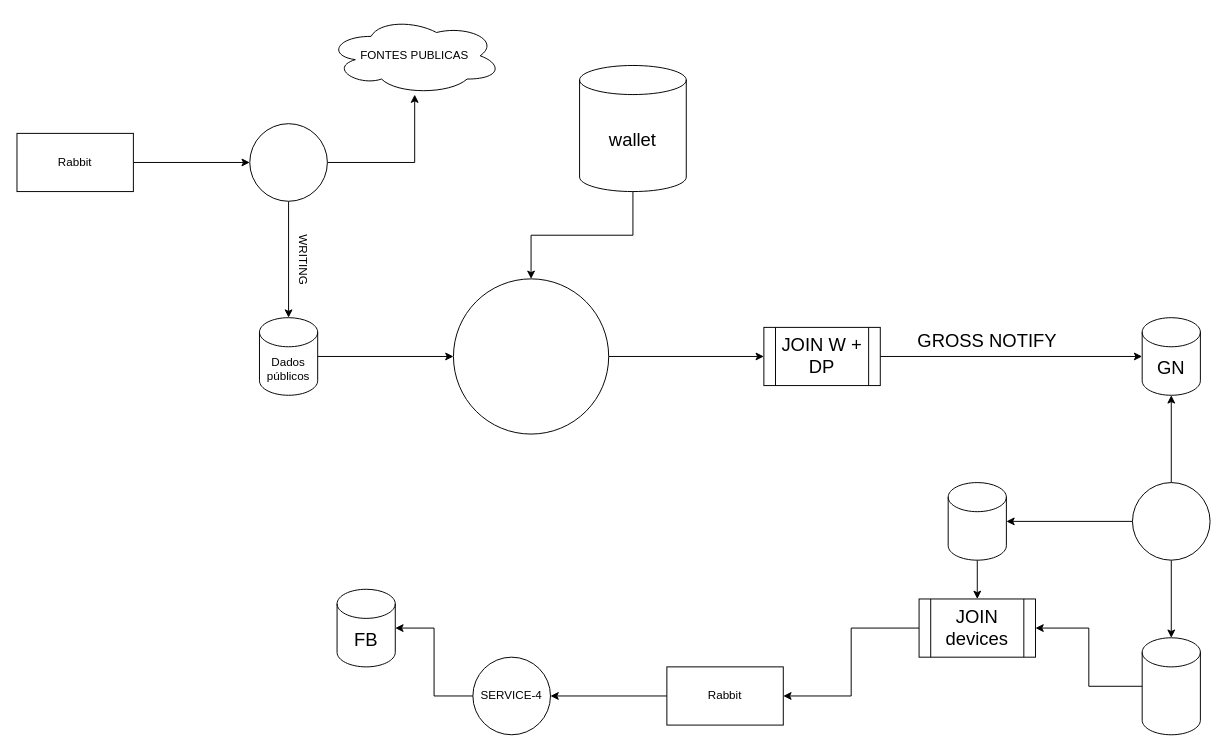
The diagram is 1228 pixels wide and 752 high, and some of its shapes have lost their labels. The box of each missing label's shape, as (x1, y1, x2, y2) in pixels:
DEVICES: (1141, 637, 1200, 735)
LN: (947, 482, 1006, 560)
SERVICE 2: (453, 278, 609, 434)
SERVICE 3: (1132, 482, 1210, 560)
SERVICE-1: (249, 123, 327, 201)
